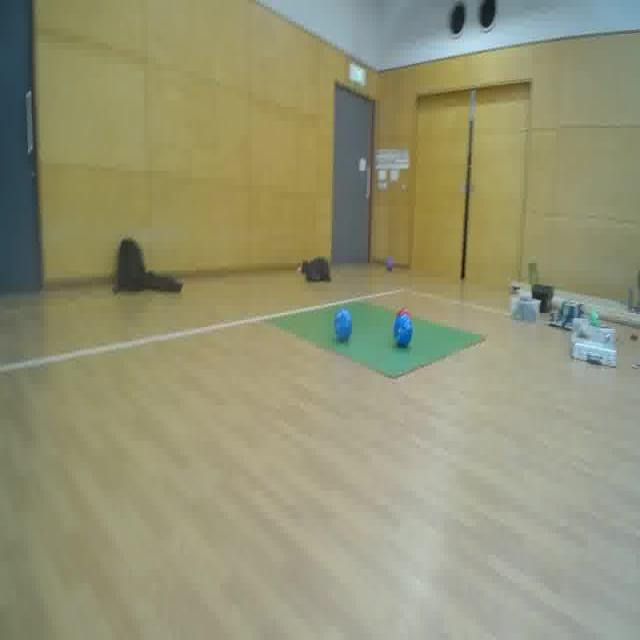blue_ball: (331, 307, 354, 346), (392, 313, 414, 347)
purple_ball: (386, 258, 395, 275)
red_ball: (397, 304, 416, 332)
